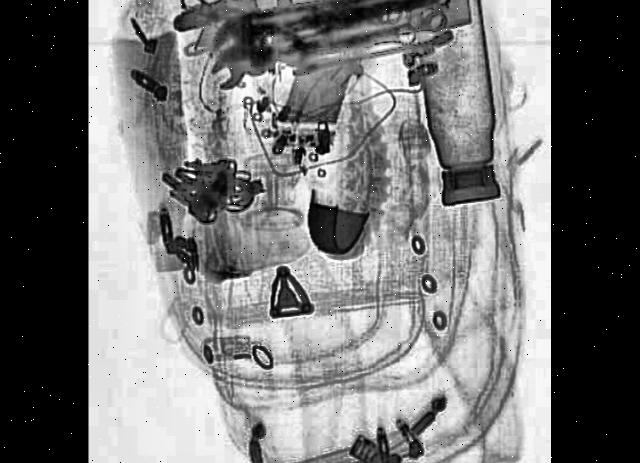Pliers: (209, 2, 448, 95)
